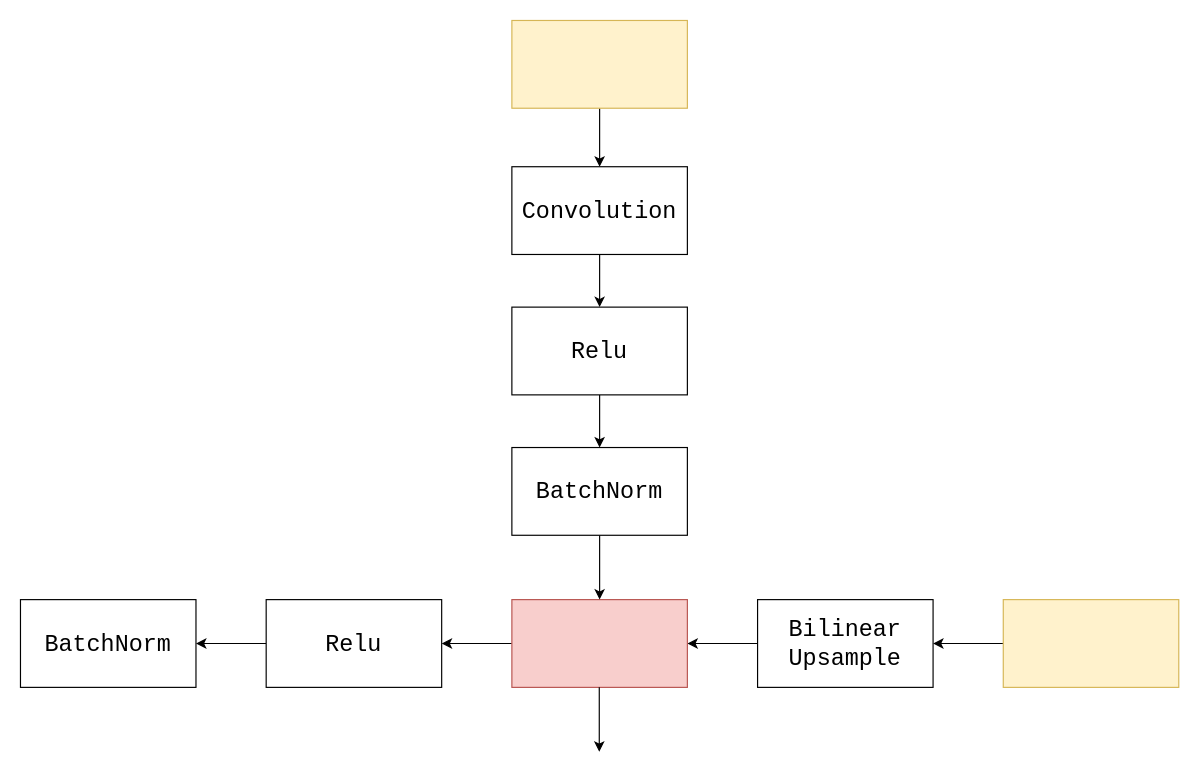
This 1199x782 diagram has some shape labels left out. Each missing label, with the box of its shape:
Eltsum: (511, 598, 687, 687)
High feature map: (1002, 598, 1179, 687)
Low feature map: (511, 19, 687, 108)
